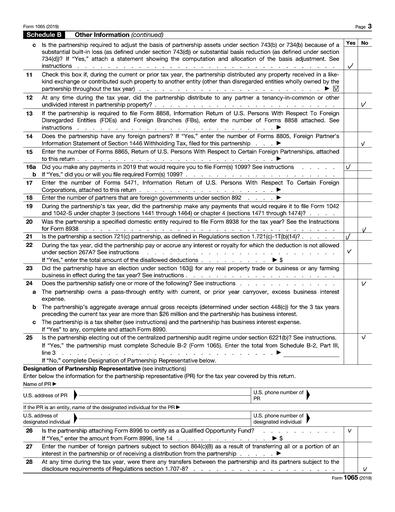checkmark: (347, 62, 353, 69), (345, 233, 351, 240), (360, 101, 366, 107), (345, 163, 351, 169), (360, 140, 365, 146), (361, 226, 366, 232), (346, 248, 352, 253), (361, 280, 366, 286), (361, 334, 366, 339), (363, 466, 367, 471), (348, 428, 352, 432)
filled checkbox: (332, 84, 339, 92)
